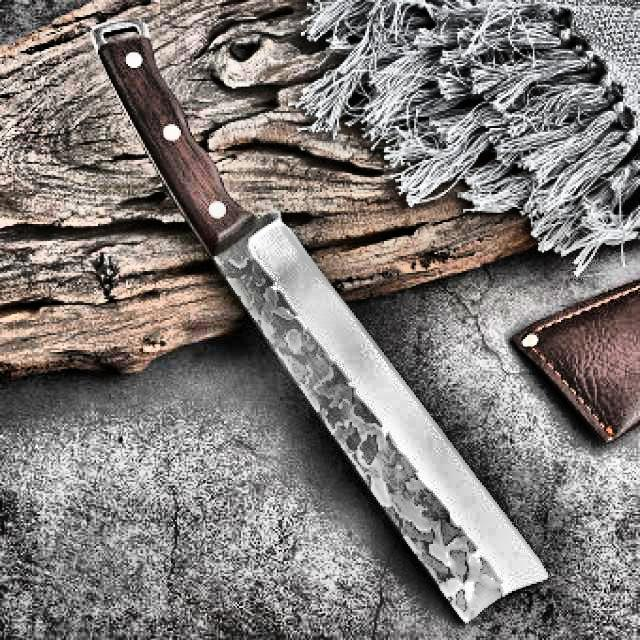knife: (92, 17, 550, 634)
